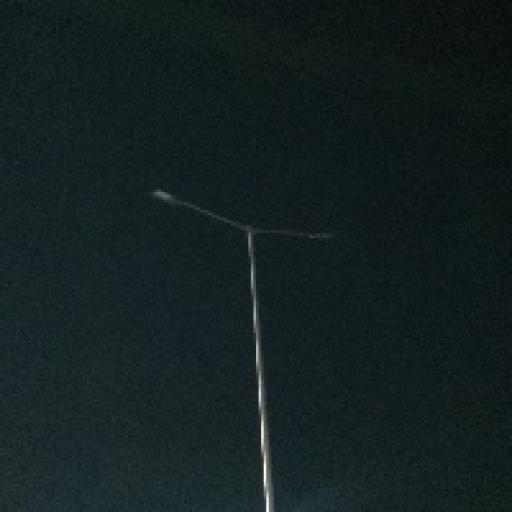Not Working: (146, 183, 182, 212), (297, 224, 338, 246)
